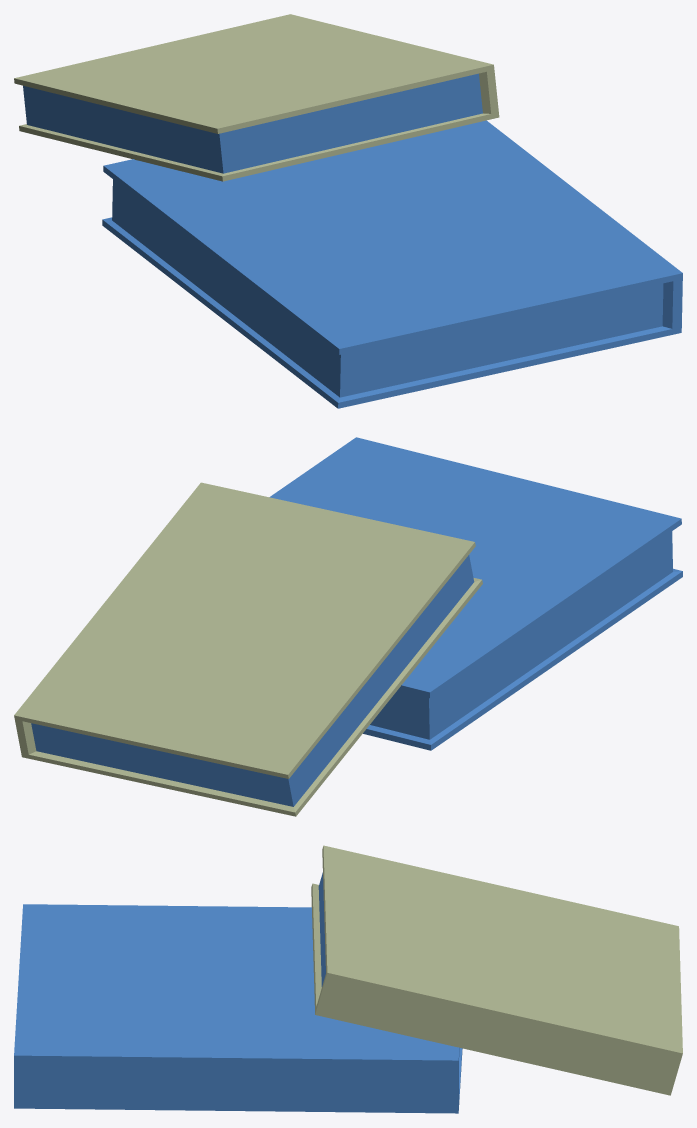
File: Bedroom3_Books7.fbx
The picture shows the model from 3 angles, top to bottom: view 1: azimuth 30°, elevation 25°; view 2: azimuth 150°, elevation 25°; view 3: azimuth 270°, elevation 25°; orthographic projection. The views are drawn at different scales.
Visible parts, largest first — view 1: Bedroom3_Books7; view 2: Bedroom3_Books7; view 3: Bedroom3_Books7.
Part boxes in pixels (x1,y1,x2,y2): Bedroom3_Books7: [14, 14, 682, 408]; Bedroom3_Books7: [14, 437, 682, 816]; Bedroom3_Books7: [14, 845, 682, 1113].
Bounding box in the file's own units: 33.04 × 13.47 × 60.59.
